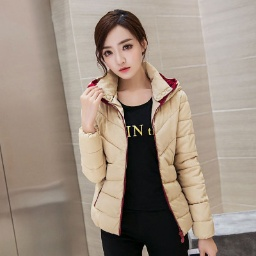face: (90, 5, 160, 83)
